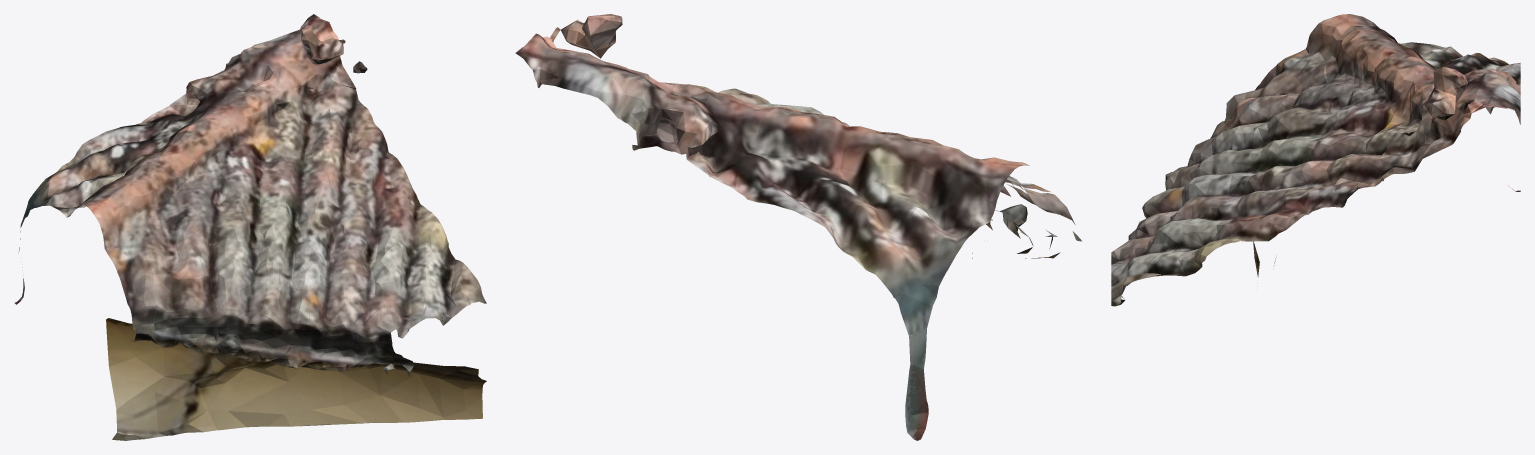
The picture shows the model from 3 angles, left to right: view 1: azimuth 30°, elevation 25°; view 2: azimuth 150°, elevation 25°; view 3: azimuth 270°, elevation 25°; orthographic projection. The views are drawn at different scales.
Size of the model in its own units: 1.67 by 1.58 by 1.67.
4 materials, 4 textured.
